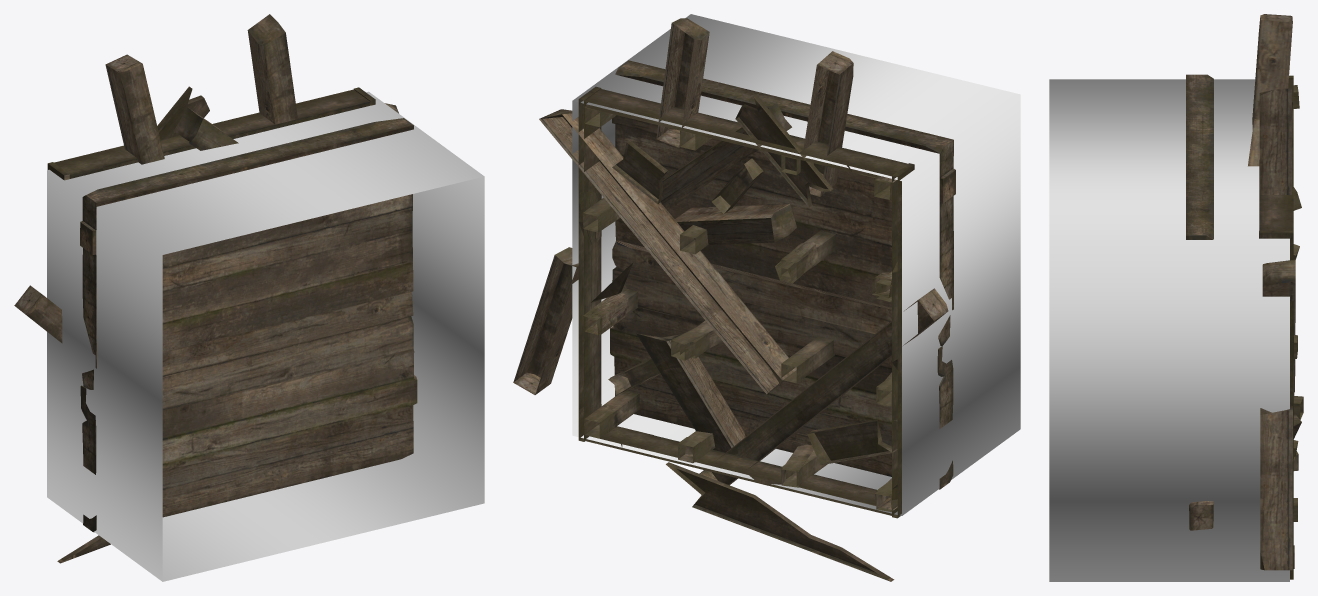
The model's file is hd_env016_Stage.glb.
3 renders of one model, left to right at view 1: azimuth 30°, elevation 25°; view 2: azimuth 150°, elevation 25°; view 3: azimuth 270°, elevation 25°, orthographic. The views are drawn at different scales.
Parts seen in each view (by area): view 1: set_0_group_2, set_0_group_1, set_0_group_0; view 2: set_0_group_1, set_0_group_0, set_0_group_2; view 3: set_0_group_2, set_0_group_0, set_0_group_1.
Boxes of the visible parts, x1,y1,x2,y2 form: set_0_group_2: (47,91,484,581); set_0_group_1: (48,87,417,532); set_0_group_0: (14,14,398,563); set_0_group_1: (578,60,955,517); set_0_group_0: (513,18,948,581); set_0_group_2: (572,14,1020,515); set_0_group_2: (1049,79,1289,581); set_0_group_0: (1248,14,1303,579); set_0_group_1: (1186,74,1293,579).
Size of the model in its own units: 5.2 by 5.97 by 2.68.
3 materials, 2 textured.
